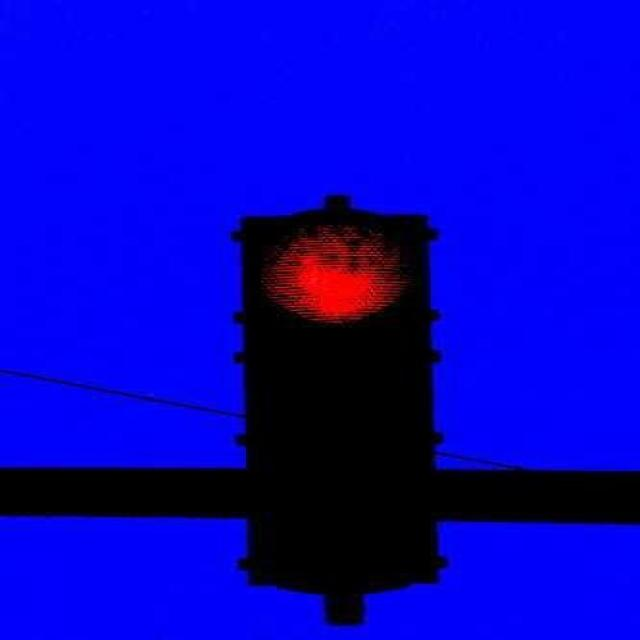Traffic Light -Red-: (210, 189, 468, 605)
